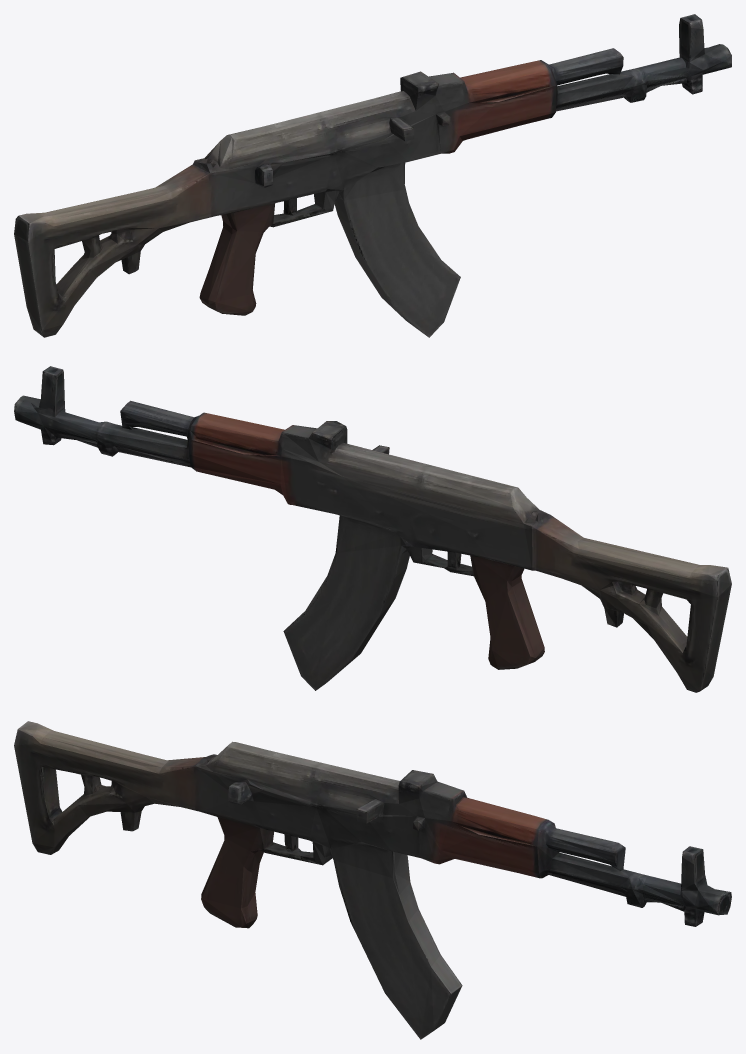
File: aks74u.glb
The picture shows the model from 3 angles, top to bottom: view 1: azimuth 30°, elevation 25°; view 2: azimuth 150°, elevation 25°; view 3: azimuth 330°, elevation 25°; orthographic projection.
Visible parts, largest first — view 1: geometry_0; view 2: geometry_0; view 3: geometry_0.
Part boxes in pixels (x1,y1,x2,y2): geometry_0: (14, 14, 731, 337); geometry_0: (14, 366, 731, 692); geometry_0: (14, 721, 731, 1039).
Size of the model in its own units: 1 by 0.3523 by 0.0842.
1 material, 1 textured.
